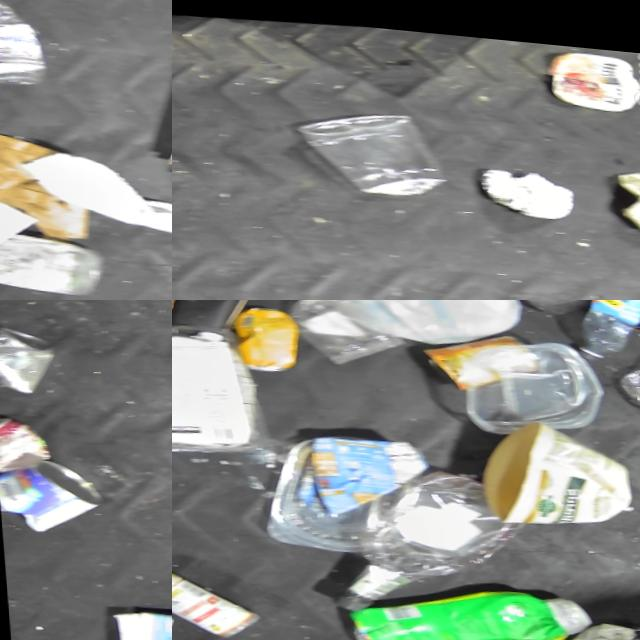can: (0, 450, 102, 536), (416, 315, 529, 389), (0, 217, 102, 292), (228, 300, 300, 369), (0, 321, 58, 394), (0, 413, 52, 475)
milk_jug: (318, 300, 525, 347)
plastic_bottle: (315, 446, 525, 619), (0, 0, 47, 86), (568, 300, 640, 355), (612, 326, 640, 404)
